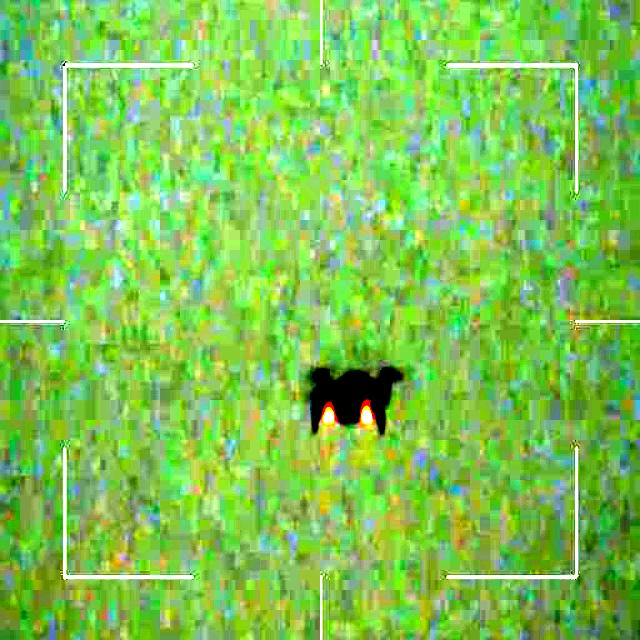bird: (305, 364, 401, 431)
